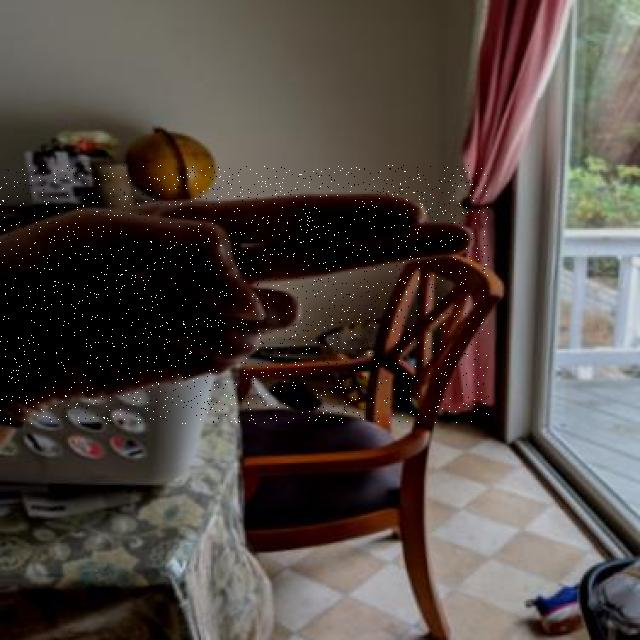H: (0, 165, 489, 424)
